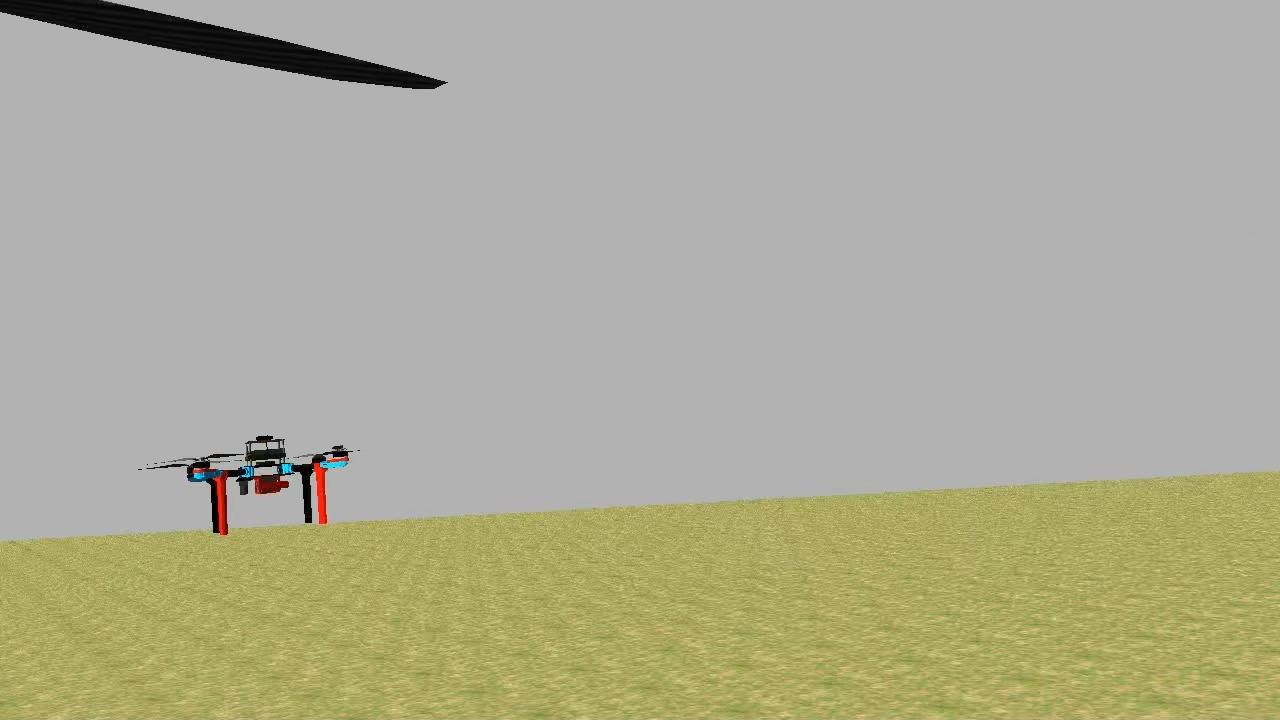UAV: (180, 426, 357, 541)
